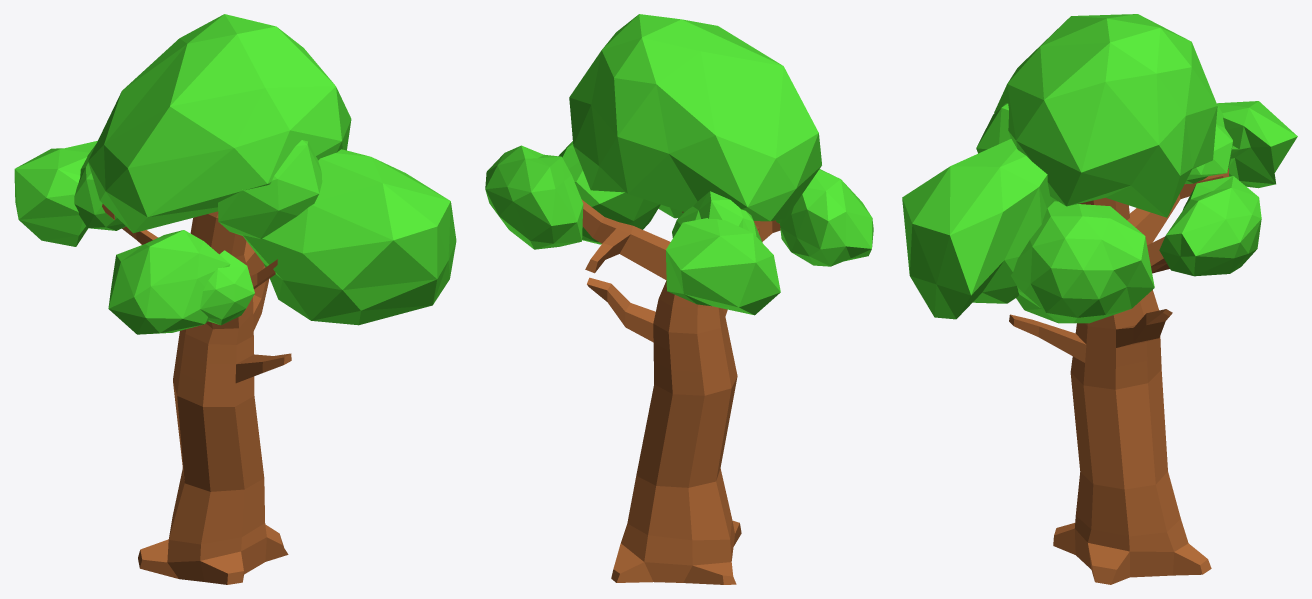
Rendered from MemorialRoom_Tree.fbx.
3 renders of one model, left to right at view 1: azimuth 30°, elevation 25°; view 2: azimuth 150°, elevation 25°; view 3: azimuth 270°, elevation 25°, orthographic. The views are drawn at different scales.
Visible parts, largest first — view 1: Leaf.006, Tree, Leaf.005, Leaf, Leaf.003, Leaf.007, Leaf.002, Leaf.004; view 2: Leaf.006, Tree, Leaf.003, Leaf.001, Leaf, Leaf.008, Leaf.004; view 3: Leaf.006, Tree, Leaf.005, Leaf.008, Leaf.001, Leaf.003, Leaf.004, Leaf.007.
Boxes of the visible parts, bbox=[...] form: Leaf.006: bbox=[88, 14, 351, 233]; Tree: bbox=[102, 204, 291, 584]; Leaf.005: bbox=[242, 149, 456, 325]; Leaf: bbox=[108, 230, 230, 334]; Leaf.003: bbox=[14, 140, 97, 246]; Leaf.007: bbox=[218, 140, 322, 238]; Leaf.002: bbox=[200, 250, 254, 325]; Leaf.004: bbox=[74, 144, 125, 230]; Leaf.006: bbox=[569, 14, 821, 221]; Tree: bbox=[581, 199, 780, 584]; Leaf.003: bbox=[666, 218, 780, 315]; Leaf.001: bbox=[485, 145, 583, 249]; Leaf: bbox=[780, 169, 873, 266]; Leaf.008: bbox=[558, 141, 660, 244]; Leaf.004: bbox=[672, 191, 762, 242]; Leaf.006: bbox=[994, 14, 1217, 217]; Tree: bbox=[1009, 168, 1228, 584]; Leaf.005: bbox=[902, 139, 1058, 319]; Leaf.008: bbox=[1011, 201, 1154, 323]; Leaf.001: bbox=[1159, 176, 1261, 276]; Leaf.003: bbox=[1217, 101, 1297, 188]; Leaf.004: bbox=[1185, 105, 1232, 183]; Leaf.007: bbox=[976, 103, 1010, 153].
Bounding box in the file's own units: 1486 × 2433 × 1587.
